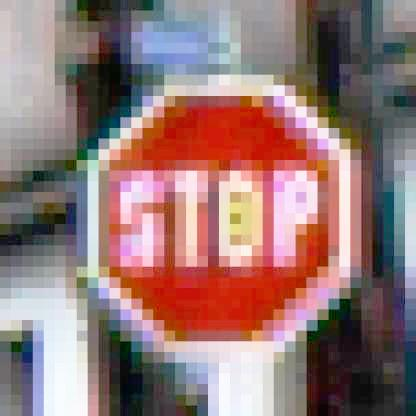Stop Sign: (90, 82, 364, 363)
